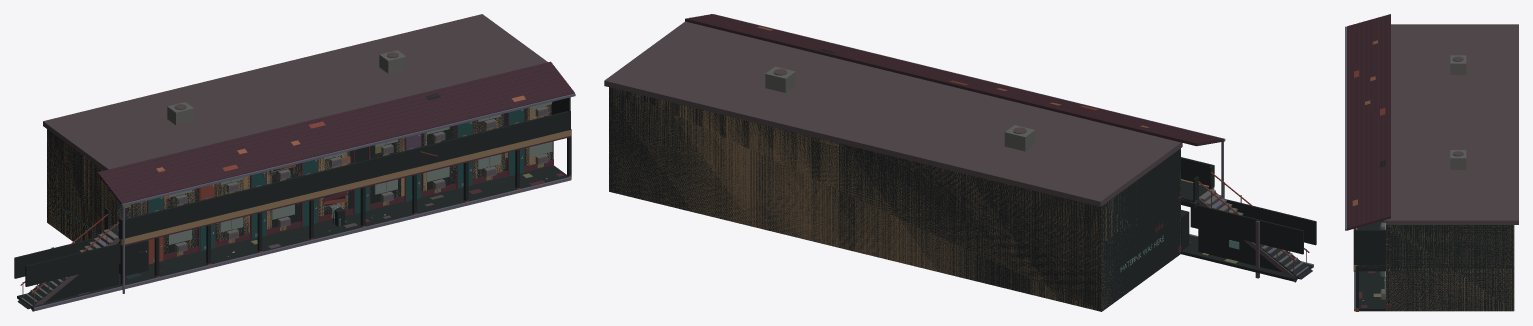
File: motel_cladire.glb
3 renders of one model, left to right at view 1: azimuth 30°, elevation 25°; view 2: azimuth 150°, elevation 25°; view 3: azimuth 270°, elevation 25°, orthographic. The views are drawn at different scales.
Visible parts, largest first — view 1: Motel, Coliziune; view 2: Motel, Coliziune; view 3: Motel, Coliziune.
Part boxes in pixels (<box>): Motel: <box>20,14,575,311</box>; Coliziune: <box>14,97,571,309</box>; Motel: <box>604,14,1313,311</box>; Coliziune: <box>609,87,1316,311</box>; Motel: <box>1345,14,1518,311</box>; Coliziune: <box>1354,220,1514,311</box>.
Size of the model in its own units: 35.87 by 7.55 by 10.87.
